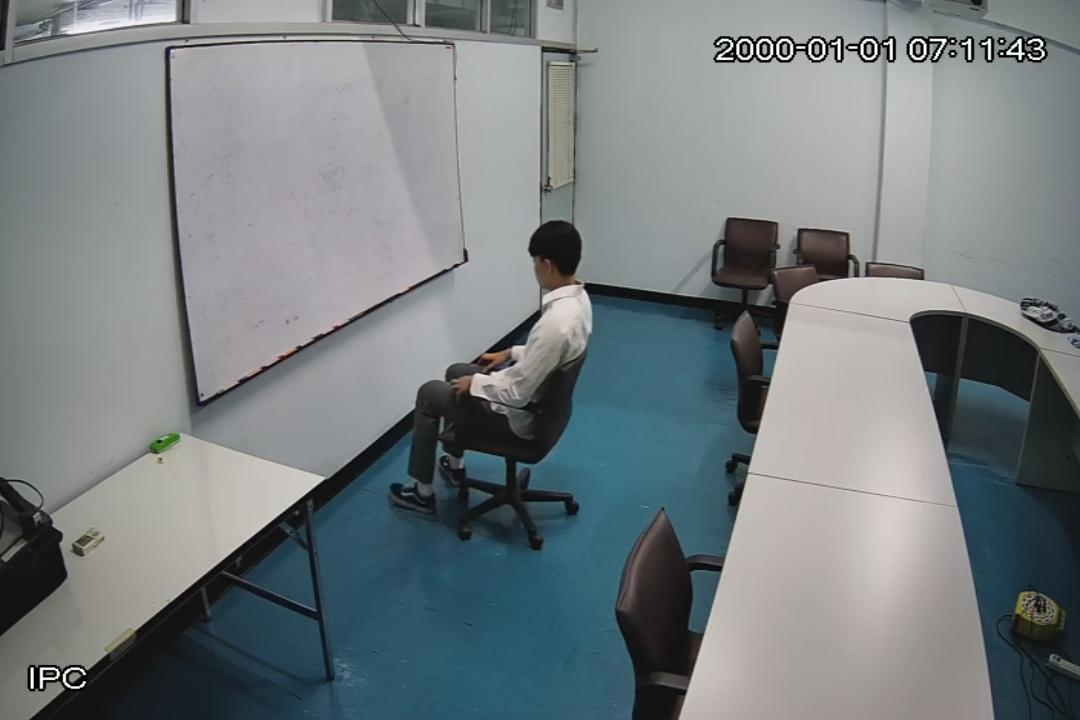normal: (388, 220, 596, 519)
